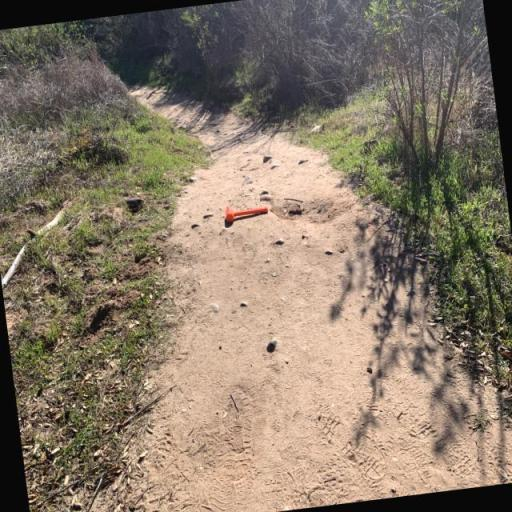mallet: (225, 202, 269, 222)
